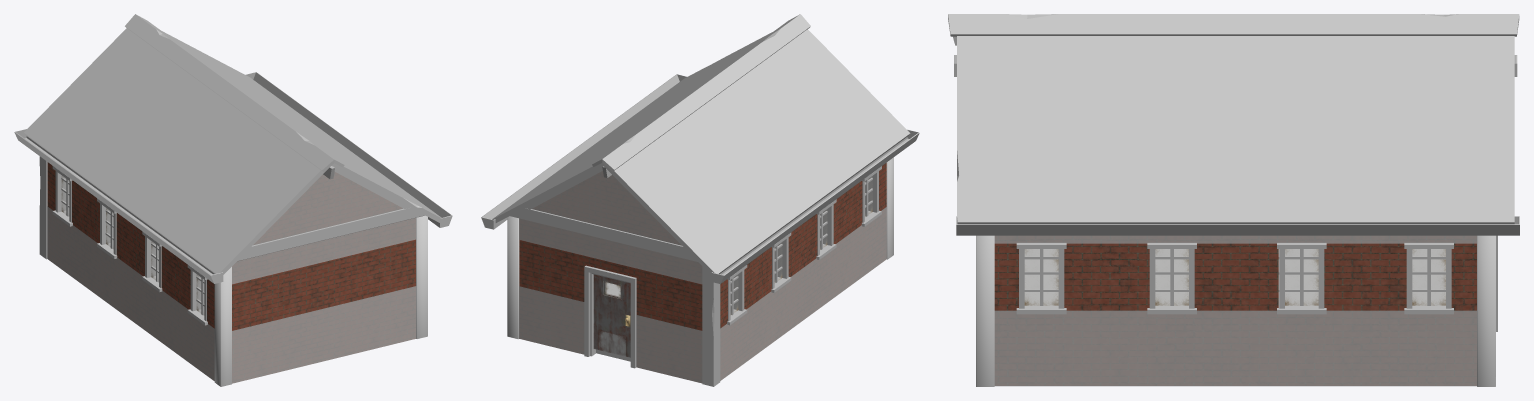
The picture shows the model from 3 angles, left to right: view 1: azimuth 30°, elevation 25°; view 2: azimuth 150°, elevation 25°; view 3: azimuth 270°, elevation 25°; orthographic projection. The views are drawn at different scales.
Visible parts, largest first — view 1: barracks, grunge.001; view 2: barracks, grunge.001, door_low.003; view 3: barracks, grunge.001, floor.003, window.005, window.003.
Boxes of the visible parts, <box> form: barracks: <box>14,14,452,386</box>; grunge.001: <box>47,172,416,383</box>; barracks: <box>481,14,919,386</box>; grunge.001: <box>519,171,886,383</box>; door_low.003: <box>593,274,630,357</box>; barracks: <box>948,14,1519,386</box>; grunge.001: <box>994,235,1476,386</box>; floor.003: <box>1024,249,1445,300</box>; window.005: <box>1024,249,1058,305</box>; window.003: <box>1285,249,1318,305</box>.
Size of what is drawn, in the model's own units: 7.05 by 5.8 by 10.01.
